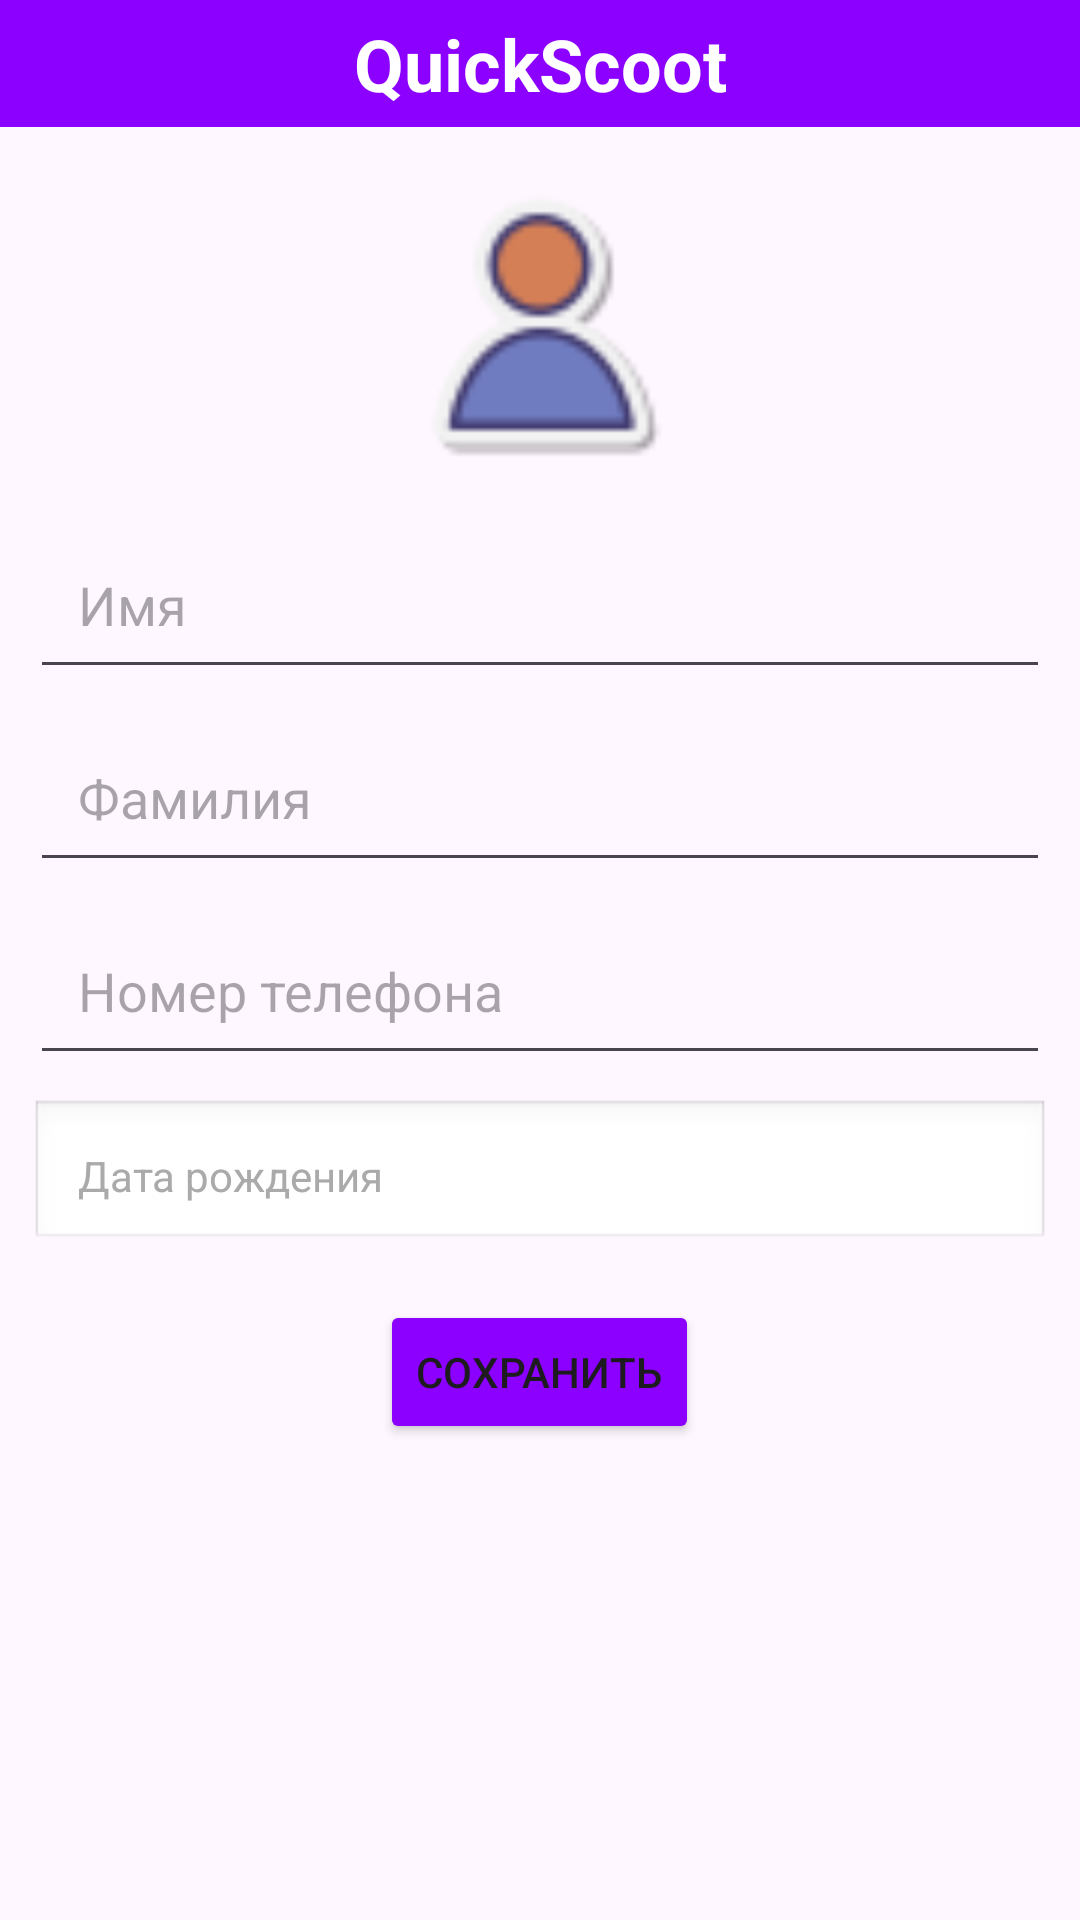

Point at icon controls on the screen. Image size 1080x1920, points as [x,y].
userpng: [550,332]
